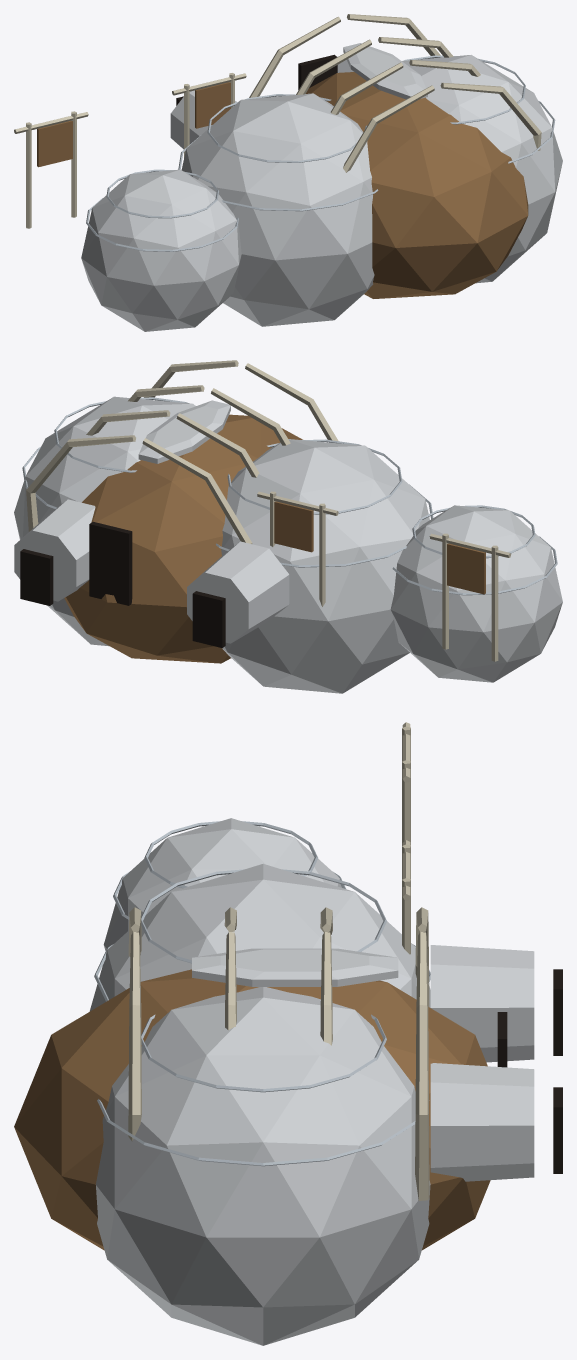
File: owl_row.glb
3 views of the same model, one above another, from view 1: azimuth 30°, elevation 25°; view 2: azimuth 150°, elevation 25°; view 3: azimuth 270°, elevation 25° (orthographic). The views are drawn at different scales.
Visible parts, largest first — view 1: owl_row; view 2: owl_row; view 3: owl_row.
Boxes of the visible parts, box(x1,y1,x2,y2) form: owl_row: box(14, 14, 562, 331); owl_row: box(14, 360, 562, 693); owl_row: box(14, 722, 562, 1345).
Size of the model in its own units: 3.47 by 1.64 by 2.24.
